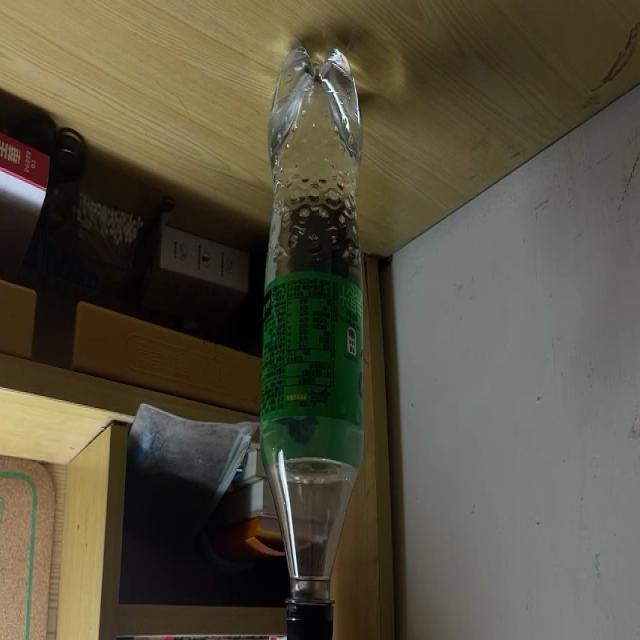Sprite: (262, 48, 363, 640)
